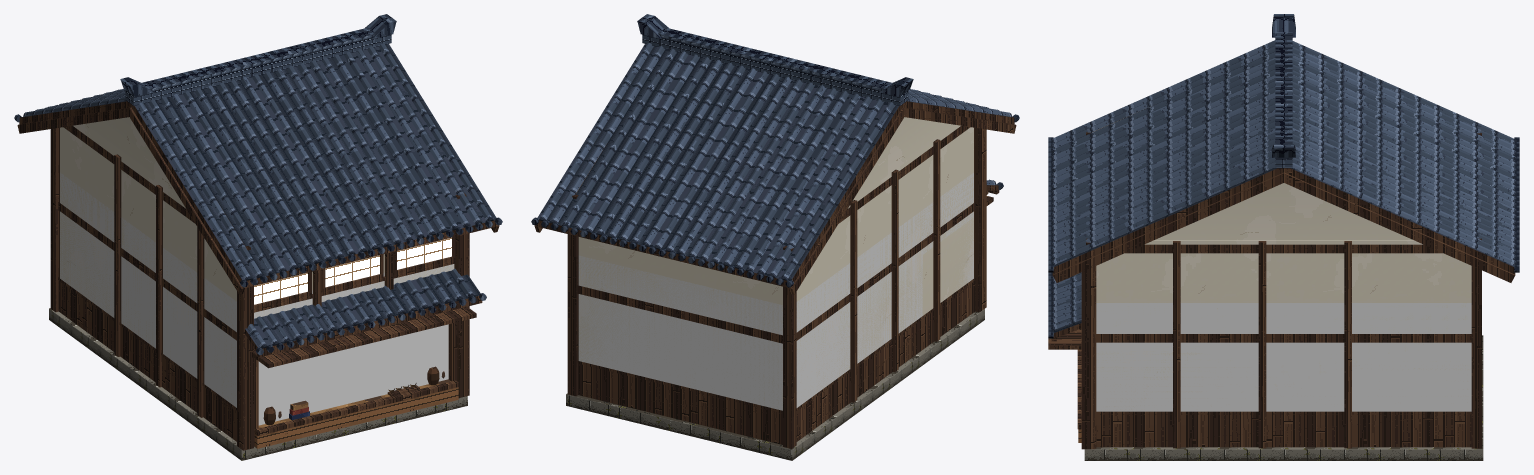
Rendered from JP_Mid_Shop_A.glb.
The picture shows the model from 3 angles, left to right: view 1: azimuth 30°, elevation 25°; view 2: azimuth 150°, elevation 25°; view 3: azimuth 270°, elevation 25°; orthographic projection. The views are drawn at different scales.
Visible parts, largest first — view 1: JP_Mid_Shop_A, COL_JP_Mid_Shop_A; view 2: JP_Mid_Shop_A, COL_JP_Mid_Shop_A; view 3: JP_Mid_Shop_A, COL_JP_Mid_Shop_A.
Part boxes in pixels (x1,y1,x2,y2): JP_Mid_Shop_A: (14, 14, 502, 460); COL_JP_Mid_Shop_A: (60, 172, 454, 425); JP_Mid_Shop_A: (531, 14, 1019, 460); COL_JP_Mid_Shop_A: (578, 173, 973, 410); JP_Mid_Shop_A: (1048, 14, 1519, 460); COL_JP_Mid_Shop_A: (1096, 303, 1471, 411).
Size of the model in its own units: 7.42 by 8.31 by 11.
Materials: 13 (13 with a texture image).
